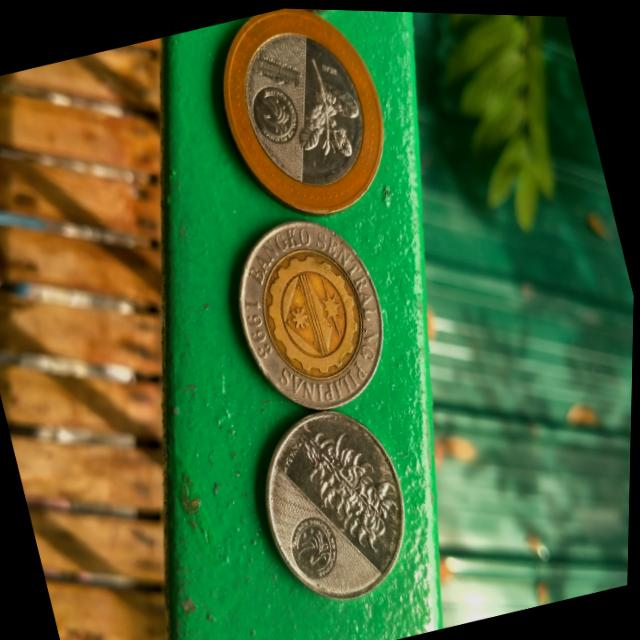10_Old_Back: (218, 201, 406, 426)
20_New_Back: (280, 42, 380, 176)
5_New_Back: (293, 411, 414, 564)
